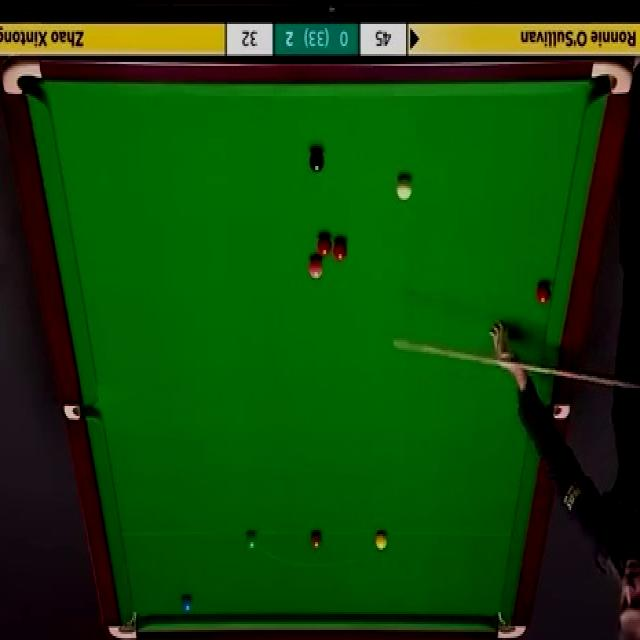pocket: (4, 55, 45, 100), (589, 62, 635, 100), (107, 605, 142, 640), (495, 609, 529, 640), (63, 402, 100, 423), (548, 404, 572, 422)
